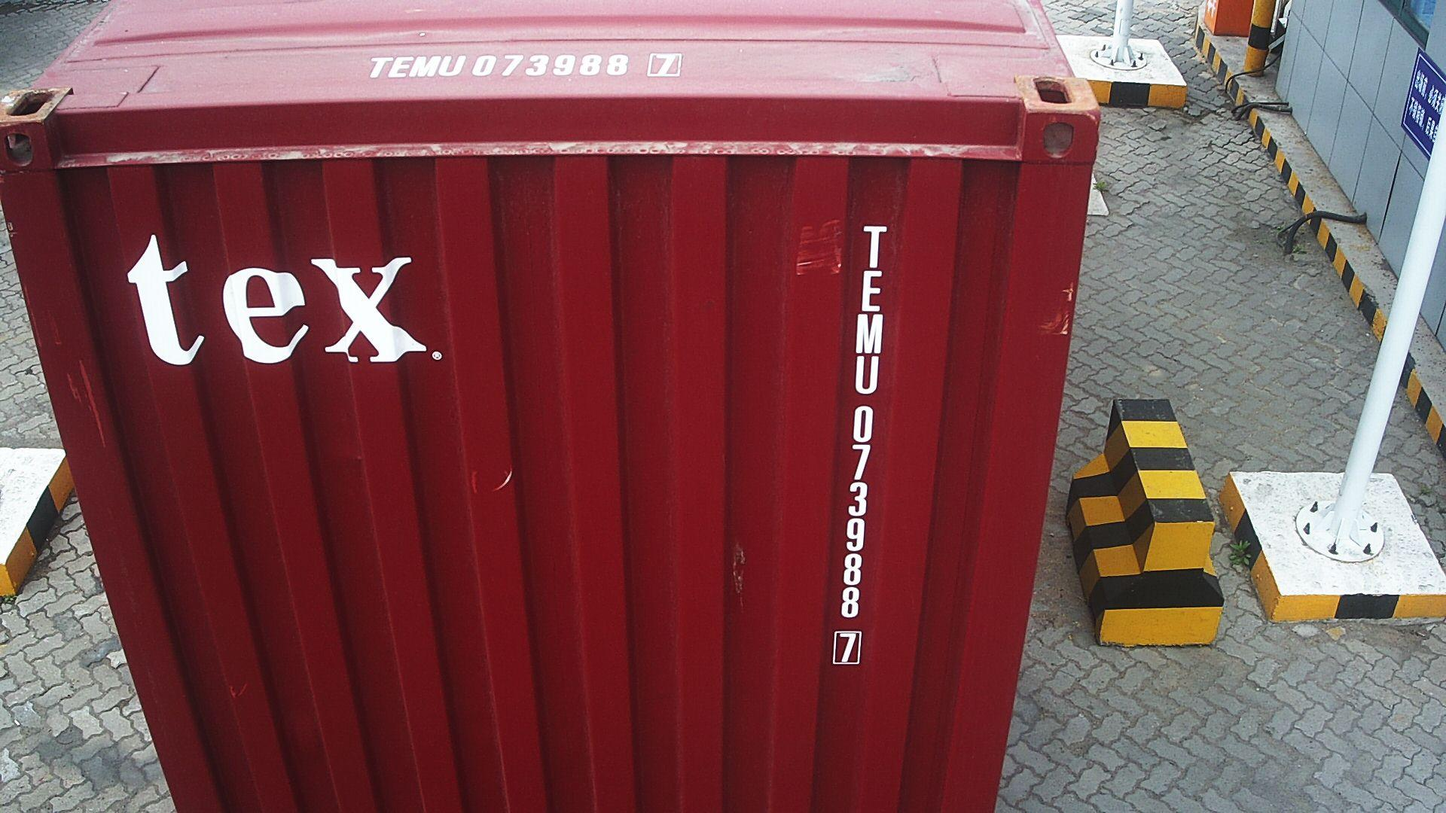container-numbers: (828, 221, 890, 670), (360, 50, 691, 81)
